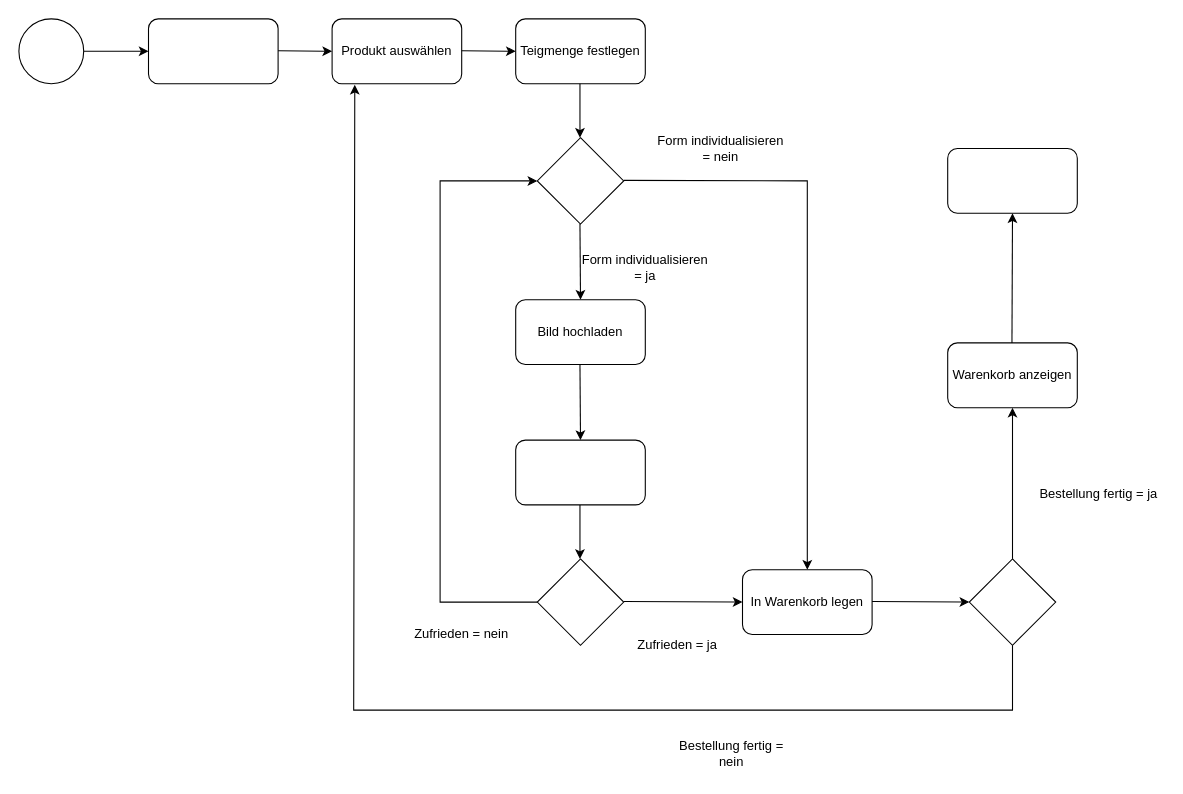
This 1183x794 diagram has some shape labels left out. The centre of each missing label's shape, as x and y in pixels:
"Bestellen" goes at [1012,180].
"Visualisierung anzeigen" goes at [580,472].
"Website betreten" goes at [212,51].
